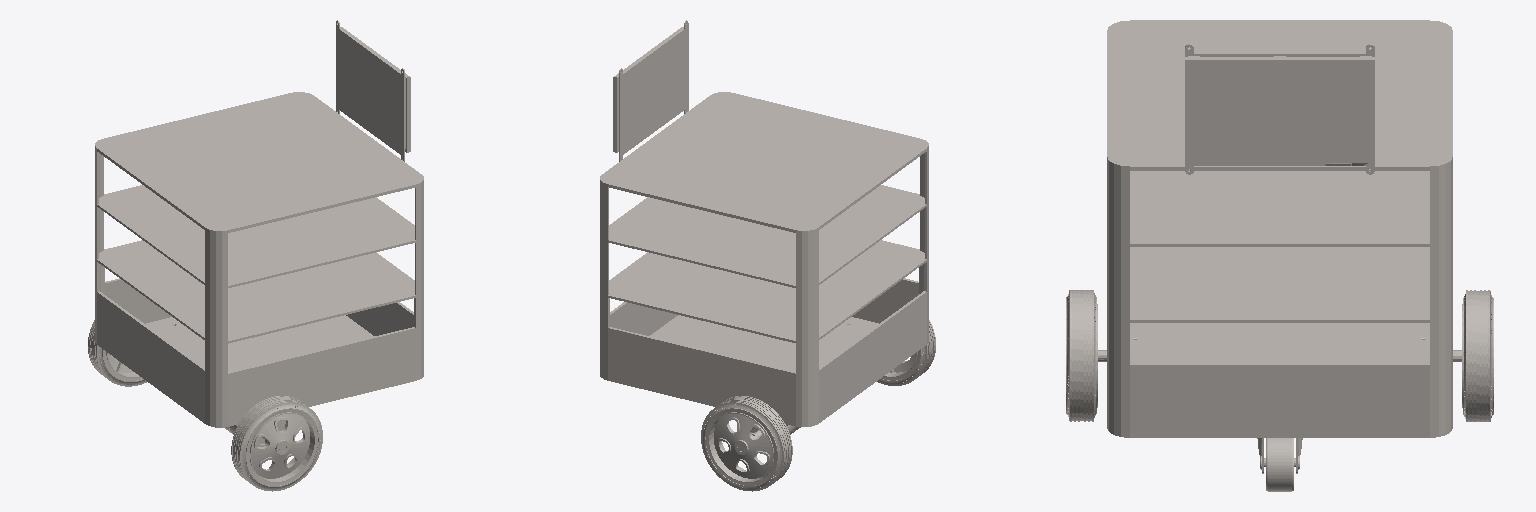
The robot description file, URDF, robot "Autonomous Robot for pallet tracking.SLDASM":
<?xml version="1.0" encoding="utf-8"?>
<!-- This URDF was automatically created by SolidWorks to URDF Exporter! Originally created by [author] ([email redacted]) 
     Commit Version: 1.6.0-4-g7f85cfe  Build Version: 1.6.7995.38578
     For more information, please see http://wiki.ros.org/sw_urdf_exporter -->
<robot
  name="Autonomous Robot for pallet tracking.SLDASM">
  <link
    name="base_link">
    <inertial>
      <origin
        xyz="-4.2862E-07 -0.0018753 0.11305"
        rpy="0 0 0" />
      <mass
        value="13.126" />
      <inertia
        ixx="0.11855"
        ixy="1.2736E-06"
        ixz="1.0357E-06"
        iyy="0.11904"
        iyz="2.7628E-06"
        izz="0.22928" />
    </inertial>
    <visual>
      <origin
        xyz="0 0 0"
        rpy="0 0 0" />
      <geometry>
        <mesh
          filename="package://Autonomous Robot for pallet tracking.SLDASM/meshes/base_link.STL" />
      </geometry>
      <material
        name="">
        <color
          rgba="0.77647 0.75686 0.73725 1" />
      </material>
    </visual>
    <collision>
      <origin
        xyz="0 0 0"
        rpy="0 0 0" />
      <geometry>
        <mesh
          filename="package://Autonomous Robot for pallet tracking.SLDASM/meshes/base_link.STL" />
      </geometry>
    </collision>
  </link>
  <link
    name="rpi_base">
    <inertial>
      <origin
        xyz="-0.0120064667025884 -0.00471627505060544 0.0162632662835169"
        rpy="0 0 0" />
      <mass
        value="13.5787380713045" />
      <inertia
        ixx="0.314100204728485"
        ixy="-0.0639211824079832"
        ixz="-0.0651755801900691"
        iyy="0.562868178518788"
        iyz="-0.0138265935074047"
        izz="0.554340574545811" />
    </inertial>
    <visual>
      <origin
        xyz="0 0 0"
        rpy="0 0 0" />
      <geometry>
        <mesh
          filename="package://Autonomous Robot for pallet tracking.SLDASM/meshes/rpi_base.STL" />
      </geometry>
      <material
        name="">
        <color
          rgba="1 1 1 1" />
      </material>
    </visual>
    <collision>
      <origin
        xyz="0 0 0"
        rpy="0 0 0" />
      <geometry>
        <mesh
          filename="package://Autonomous Robot for pallet tracking.SLDASM/meshes/rpi_base.STL" />
      </geometry>
    </collision>
  </link>
  <joint
    name="rpi_base"
    type="revolute">
    <origin
      xyz="0.007 0 0.1336"
      rpy="3.1416 0 3.1416" />
    <parent
      link="base_link" />
    <child
      link="rpi_base" />
    <axis
      xyz="0 0 -1" />
    <limit
      lower="0"
      upper="0"
      effort="0"
      velocity="0" />
  </joint>
</robot>

--- What the picture shows (computed from the rendered views, not written in the file) ---
3 views of the same robot in one strip: view 1: azimuth 30°, elevation 25°; view 2: azimuth 150°, elevation 25°; view 3: azimuth 270°, elevation 25° (orthographic).
Model Autonomous Robot for pallet tracking.SLDASM with 2 links and 1 joints (1 revolute), rooted at base_link, posed all joints at 0.
Visible links, largest first — view 1: base_link; view 2: base_link; view 3: base_link.
Boxes of the visible links, bbox=[...] form: base_link: bbox=[88, 20, 423, 491]; base_link: bbox=[600, 20, 935, 491]; base_link: bbox=[1066, 20, 1493, 491].
Bounding box of the posed robot: 0.3115 × 0.372 × 0.4627 m (x, y, z).
Meshes: 2 distinct files referenced, 1 mesh visuals loaded (1 binary STL); not drawn: 1 (reference not matched to a file when rendering).